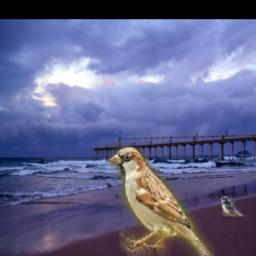Sparrow: (109, 148, 214, 256)
Swallow: (221, 196, 247, 217)
